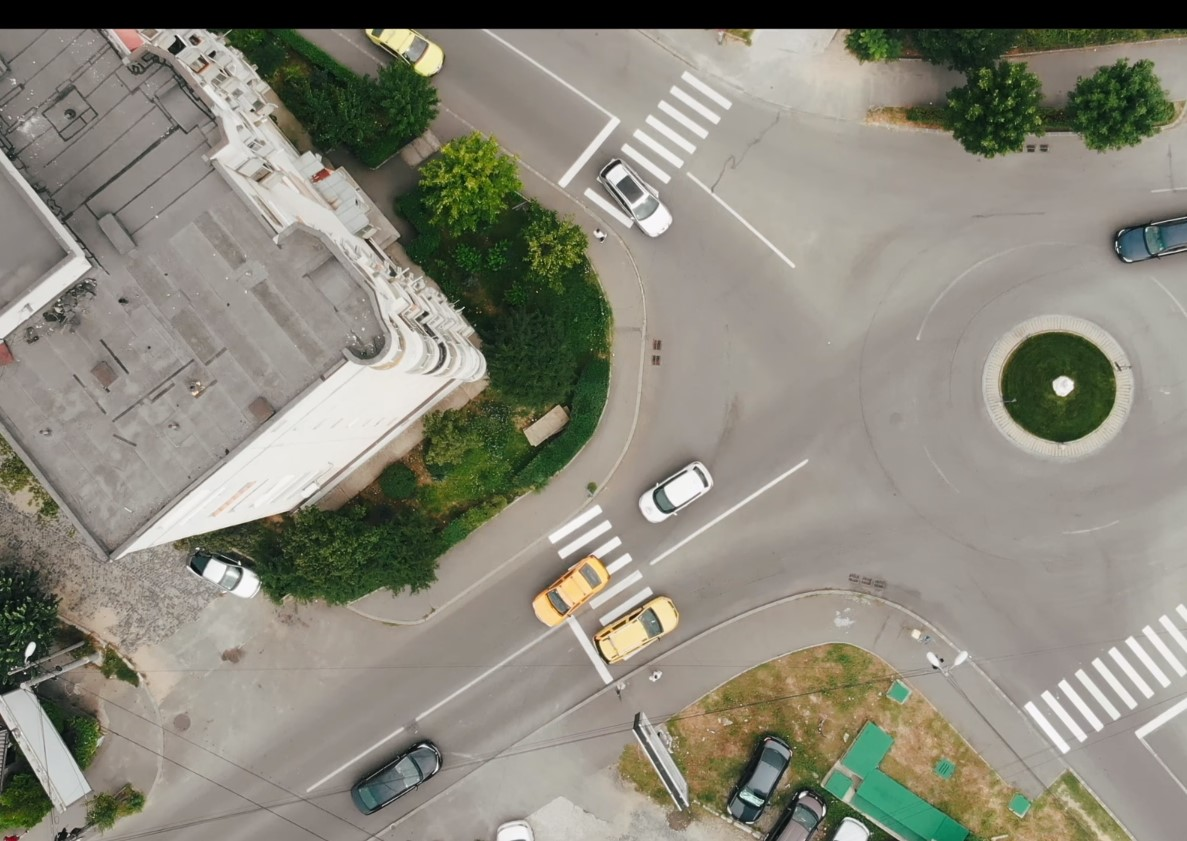araba: (351, 733, 442, 820), (721, 729, 795, 824), (596, 158, 677, 239), (533, 548, 610, 627), (597, 593, 684, 662), (638, 455, 715, 528), (181, 548, 275, 607), (365, 29, 444, 80), (1110, 217, 1187, 264), (779, 788, 835, 841)
insan: (590, 227, 609, 243)
